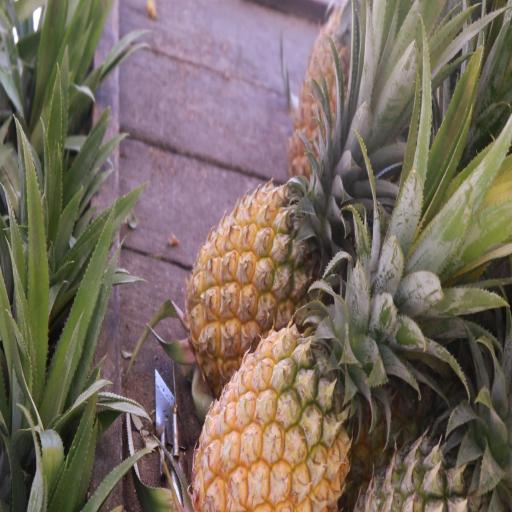Pineapple - v8 v1: (183, 278, 352, 512), (180, 153, 340, 375)
